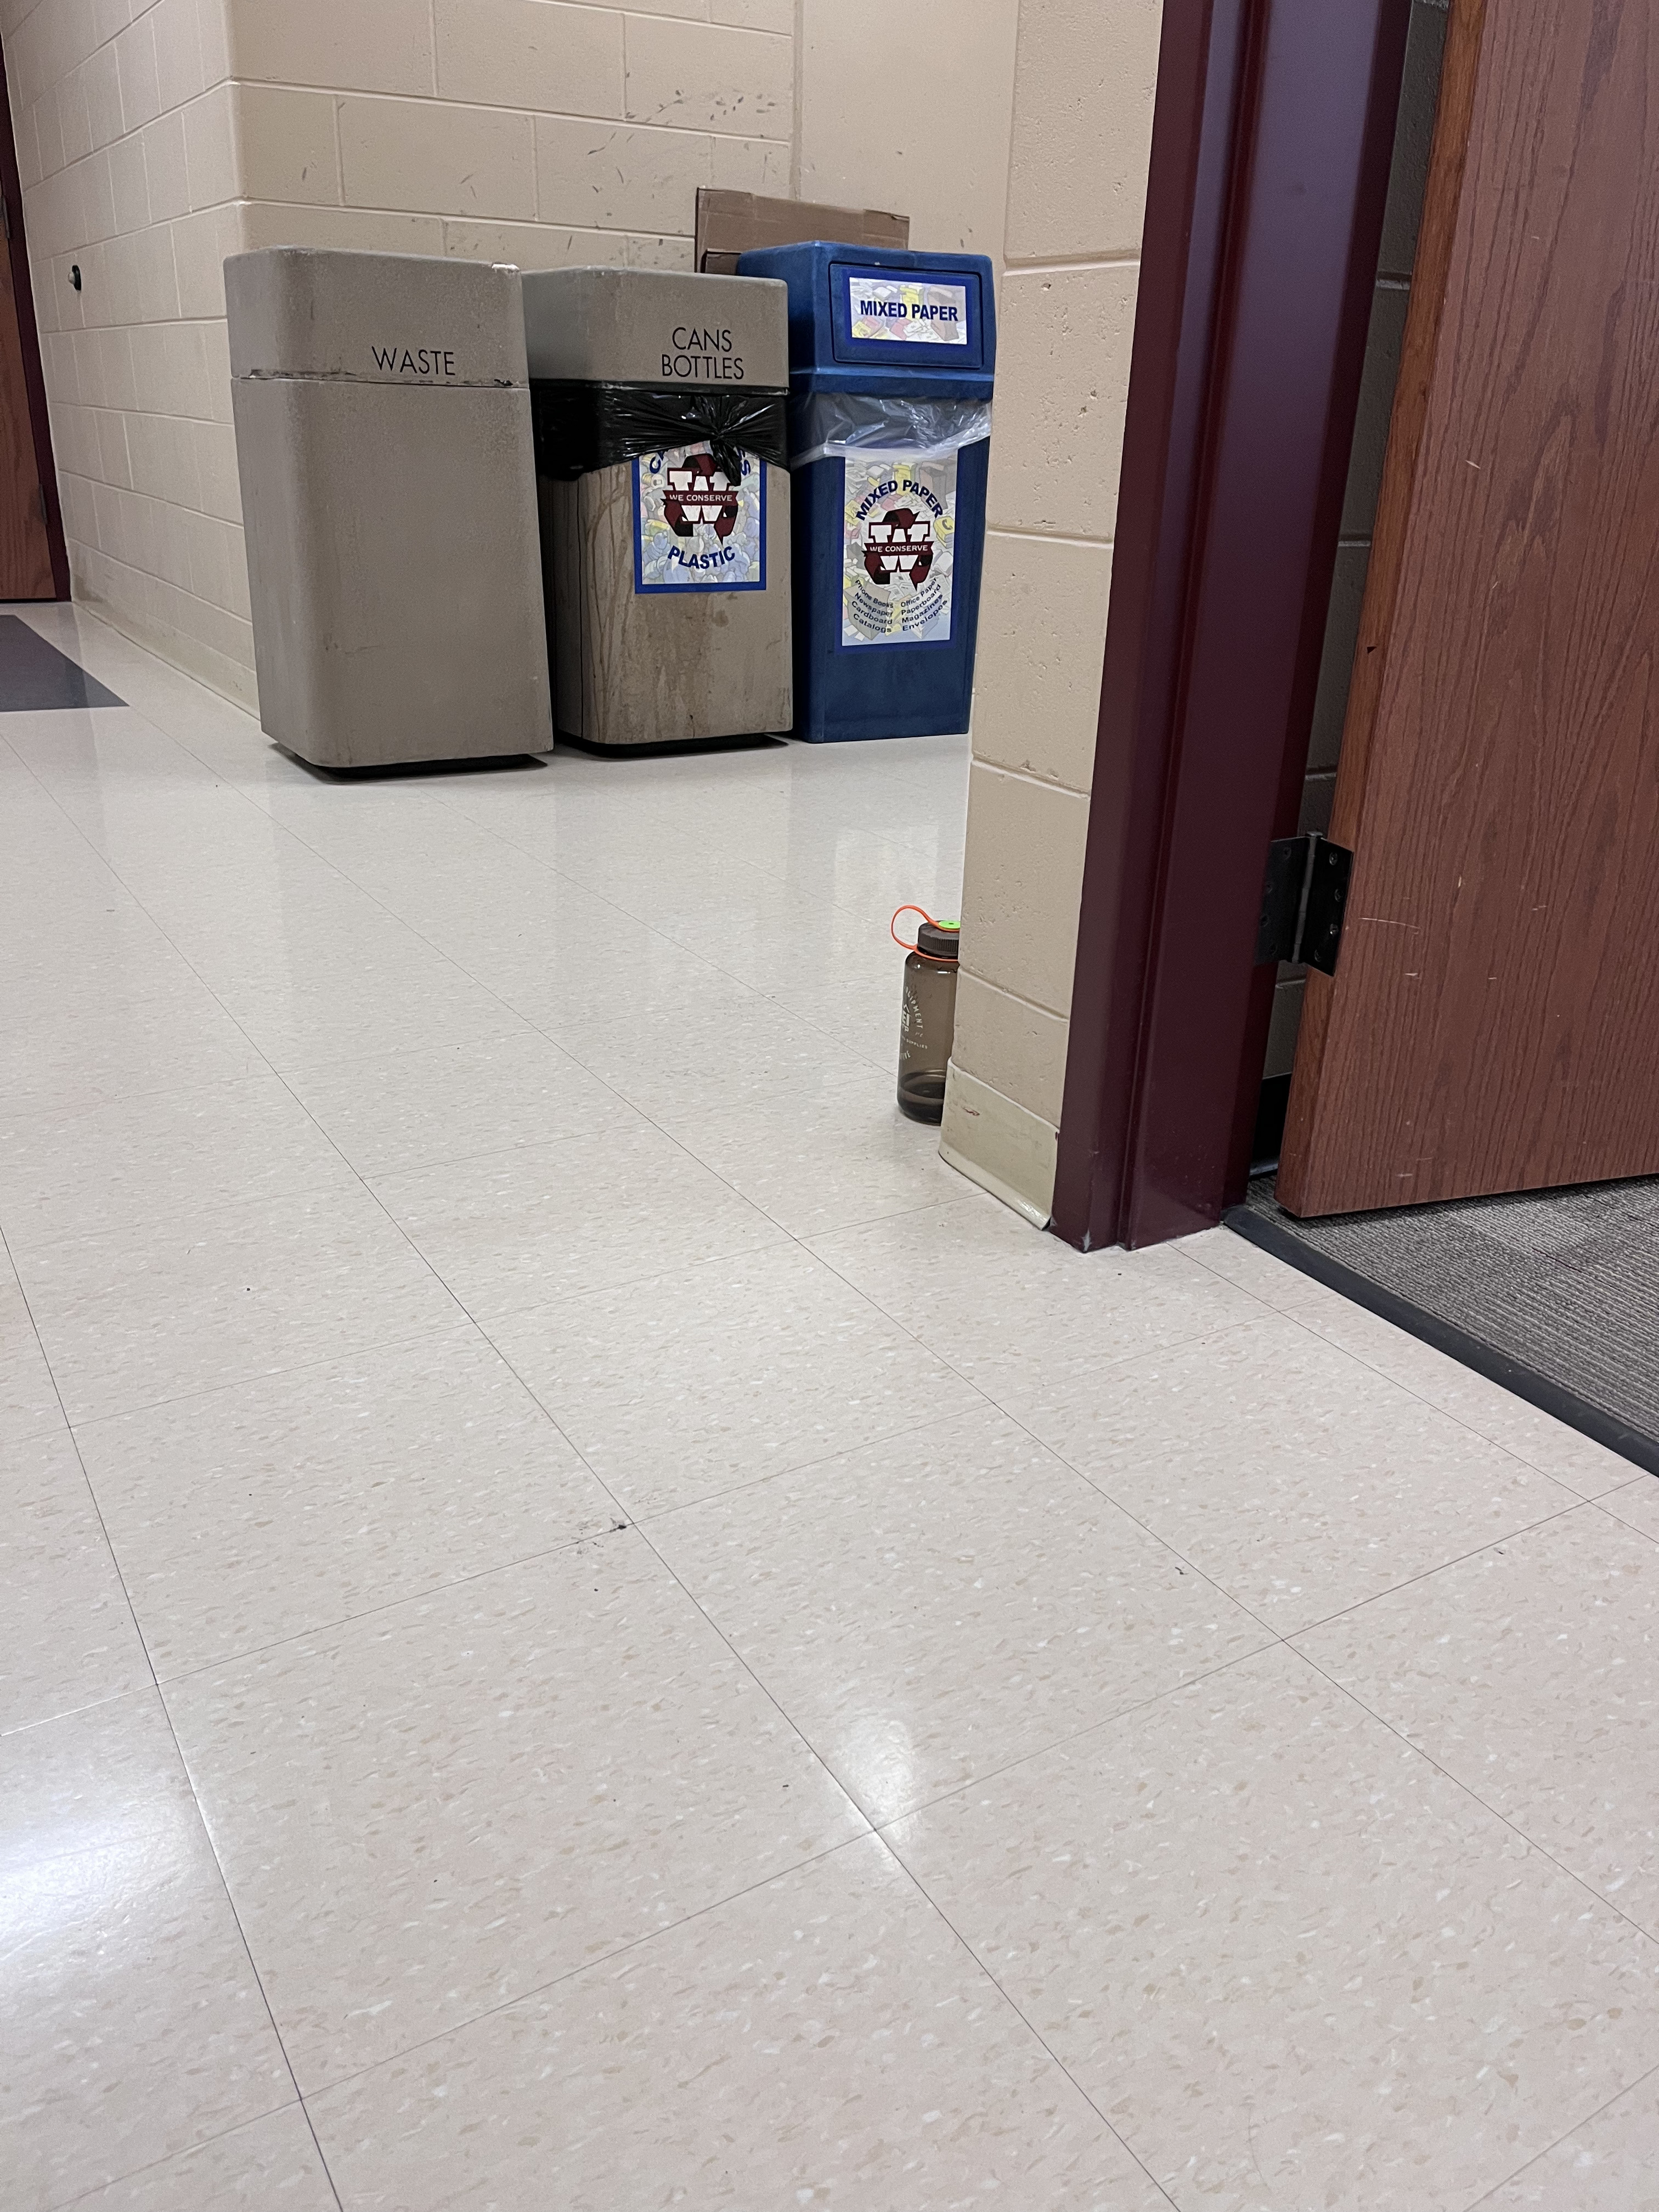bottle: (885, 895, 964, 1127)
